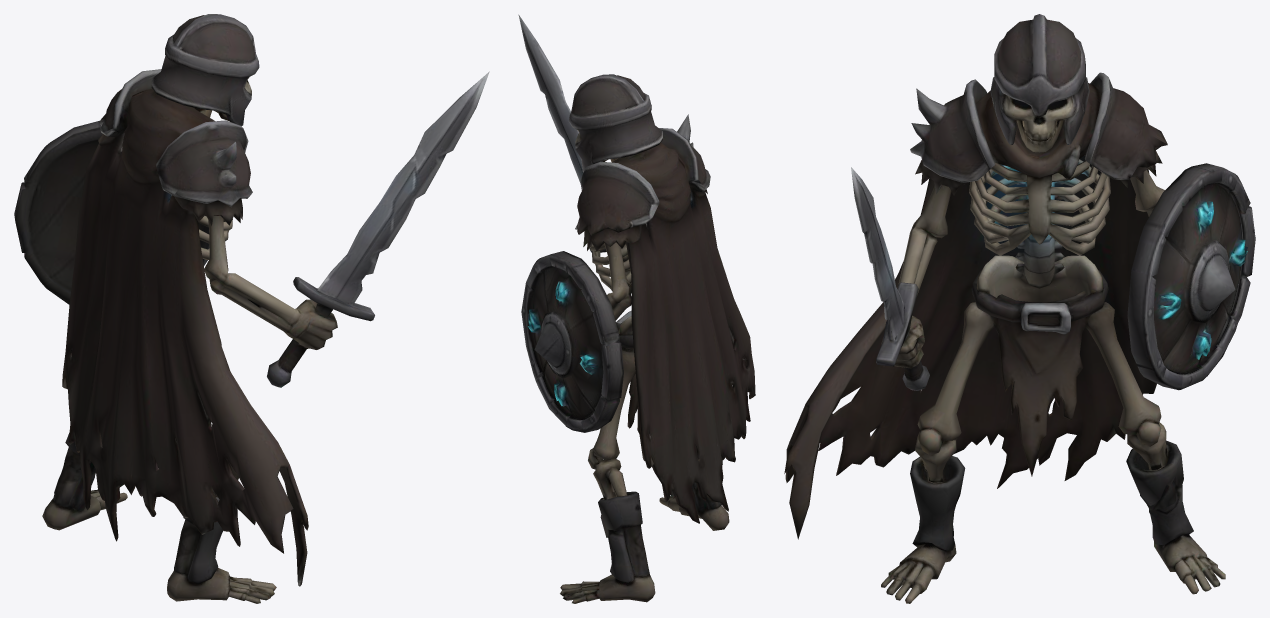
File: skeleton.glb
The picture shows the model from 3 angles, left to right: view 1: azimuth 30°, elevation 25°; view 2: azimuth 150°, elevation 25°; view 3: azimuth 270°, elevation 25°; orthographic projection. The views are drawn at different scales.
Visible parts, largest first — view 1: tripo_node_fe89a84a-d869-4032-8bed-28e9b6c4dc6c; view 2: tripo_node_fe89a84a-d869-4032-8bed-28e9b6c4dc6c; view 3: tripo_node_fe89a84a-d869-4032-8bed-28e9b6c4dc6c.
Boxes of the visible parts, <box> form: tripo_node_fe89a84a-d869-4032-8bed-28e9b6c4dc6c: <box>14,14,489,603</box>; tripo_node_fe89a84a-d869-4032-8bed-28e9b6c4dc6c: <box>518,14,755,603</box>; tripo_node_fe89a84a-d869-4032-8bed-28e9b6c4dc6c: <box>784,14,1255,603</box>.
Size of the model in its own units: 0.5911 by 0.9775 by 0.7174.
1 material, 1 textured.
